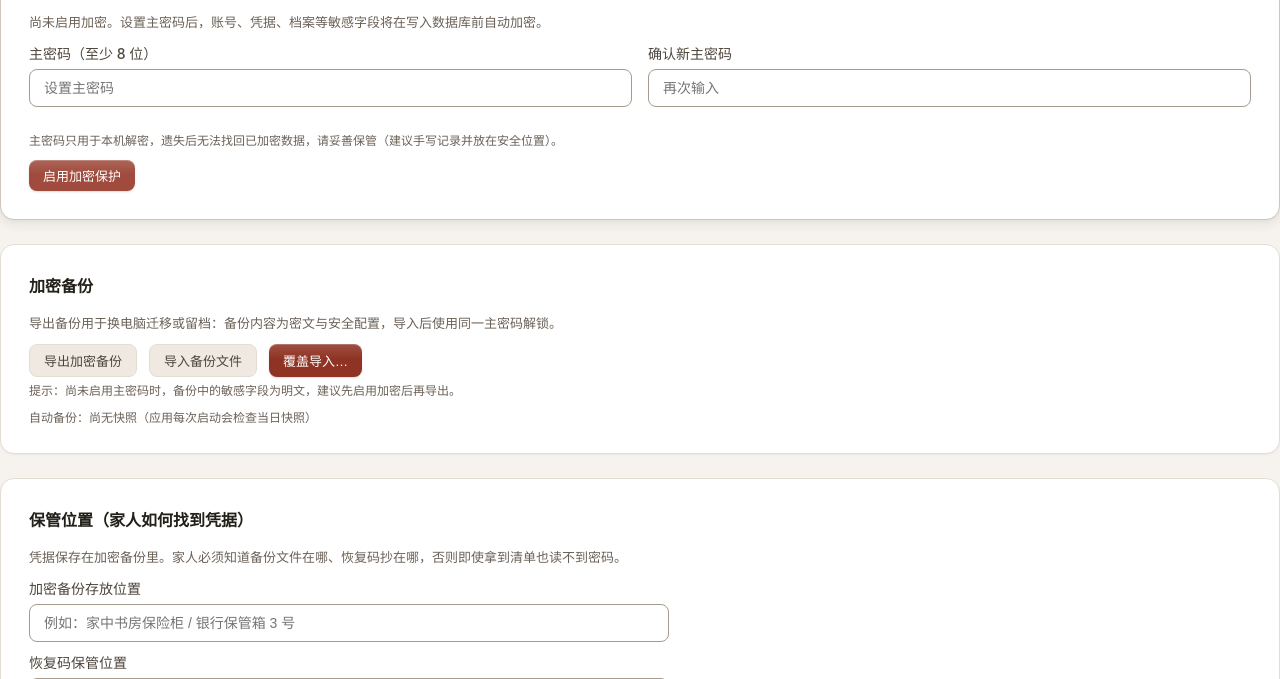
Test: 备份导出 › 成功时显示落地路径
(page scrolled)
Click the button "导出加密备份" at (83, 360), box 29,344 -> 137,377
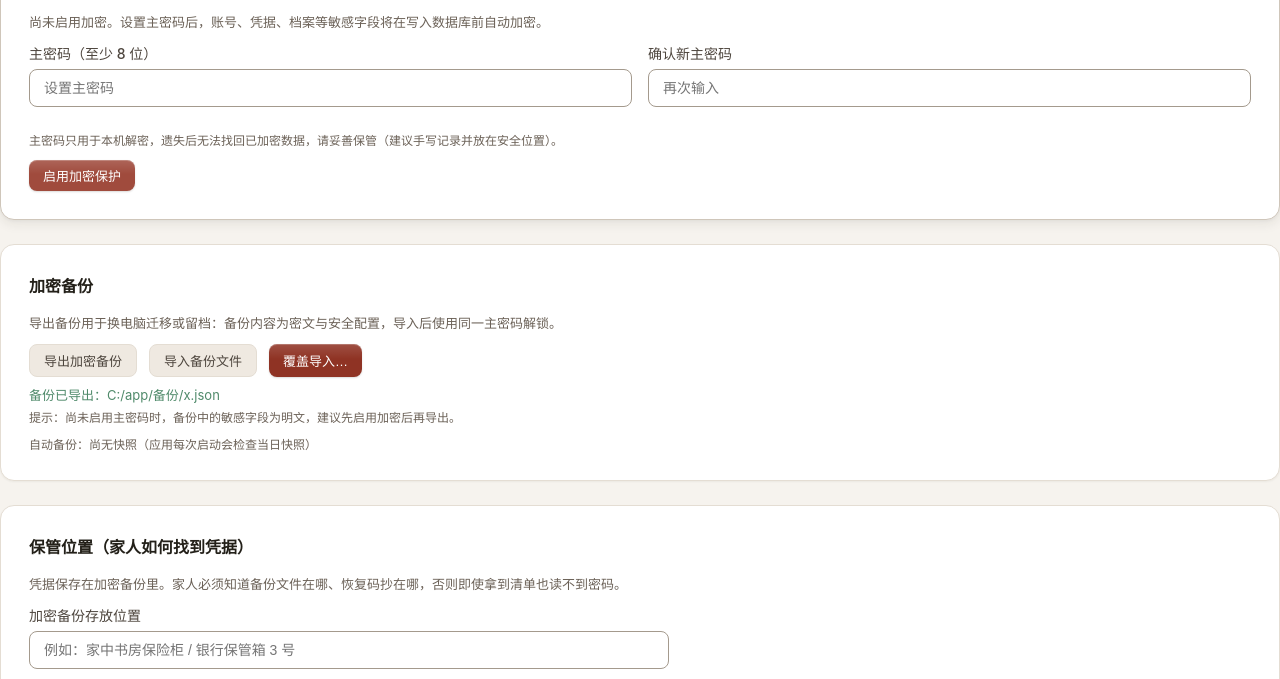
Check: the text "C:/app/备份/x.json" is shown, box 29,387 -> 220,403
